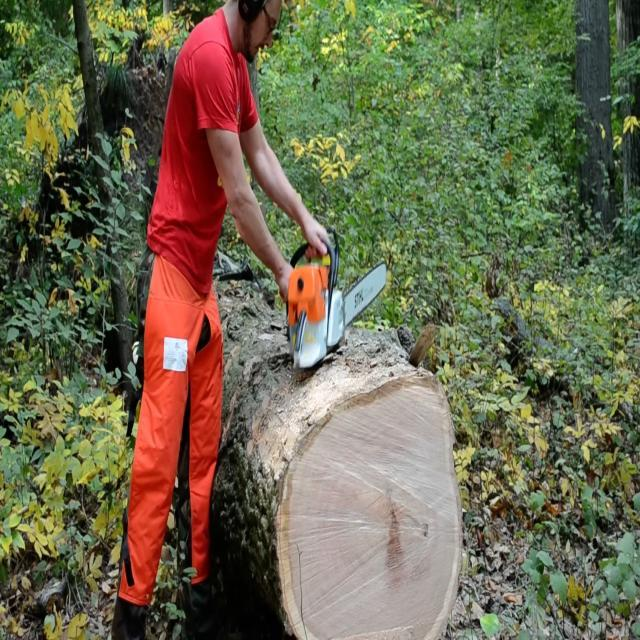Chainsaw: (278, 218, 394, 380)
